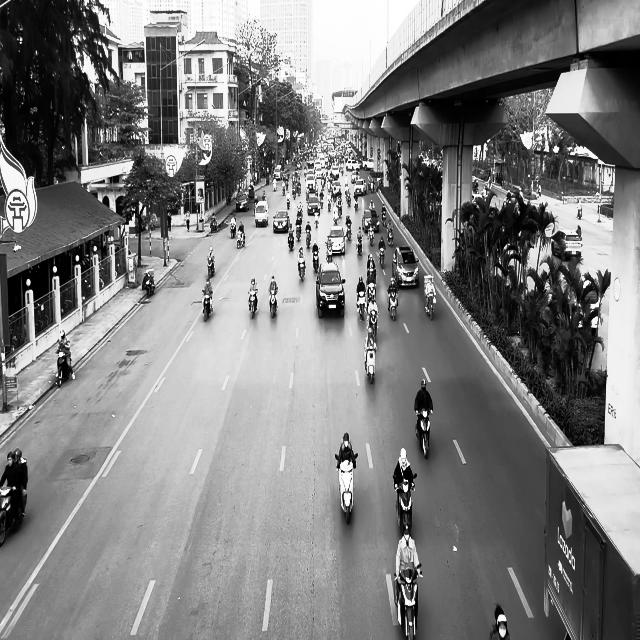car: (316, 262, 346, 318), (392, 245, 419, 288), (551, 228, 582, 260), (327, 225, 345, 255), (273, 210, 290, 233), (254, 200, 268, 227), (235, 192, 249, 212), (307, 194, 320, 215)
motorbike: (393, 566, 422, 640), (334, 451, 358, 524), (0, 485, 26, 545), (394, 474, 416, 536), (414, 408, 432, 459), (54, 348, 74, 387), (364, 326, 377, 384), (201, 289, 213, 321), (387, 288, 398, 320), (424, 292, 436, 320), (143, 270, 155, 298), (356, 290, 366, 320), (269, 288, 278, 317), (248, 289, 257, 318), (298, 257, 306, 282), (236, 228, 245, 248), (312, 248, 319, 272), (378, 245, 385, 268), (287, 227, 294, 250), (325, 241, 332, 263), (368, 223, 374, 246), (207, 259, 214, 278), (357, 235, 362, 255), (230, 222, 235, 238)
truck: (543, 442, 640, 640)
